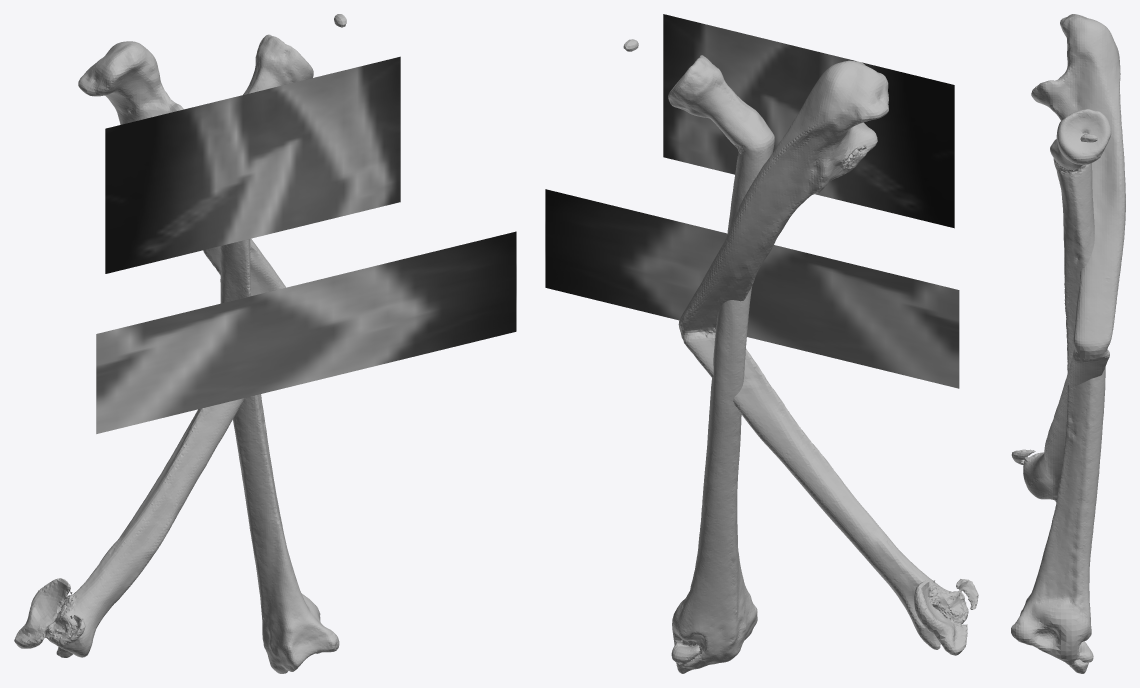
The model's file is fractured_ad697d43-8431-4b5d-a090-23b3697318a8.glb.
The picture shows the model from 3 angles, left to right: view 1: azimuth 30°, elevation 25°; view 2: azimuth 150°, elevation 25°; view 3: azimuth 270°, elevation 25°; orthographic projection. The views are drawn at different scales.
Visible parts, largest first — view 1: world; view 2: world; view 3: world.
Part boxes in pixels (left/top/right/bottom): world: left=14, top=14, right=516, bottom=673; world: left=545, top=14, right=978, bottom=673; world: left=1011, top=14, right=1125, bottom=673.
Bounding box in the file's own units: 0.673 × 0.9206 × 0.1698.
2 materials, 2 textured.
